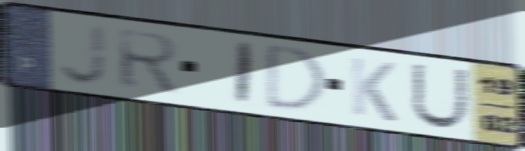D: (263, 41, 331, 114)
I: (232, 39, 258, 108)
J: (55, 21, 111, 88)
K: (347, 54, 399, 125)
R: (114, 27, 183, 96)
U: (408, 61, 470, 131)
